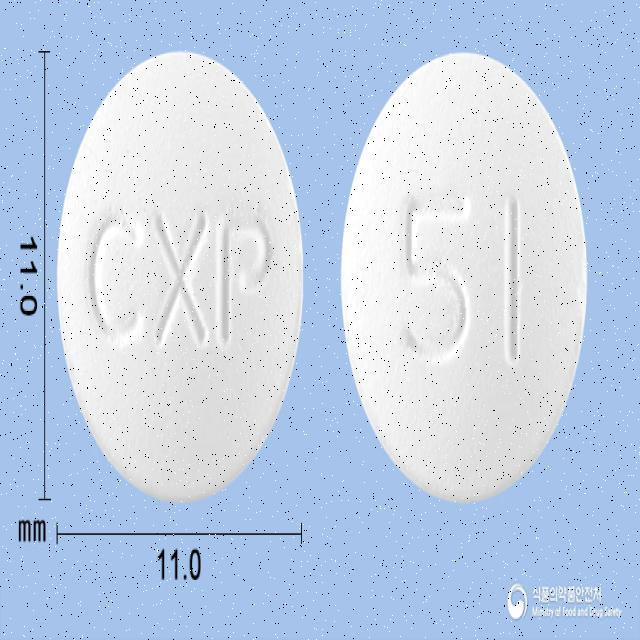Ciprotwo: (54, 43, 308, 511), (339, 46, 589, 512)
